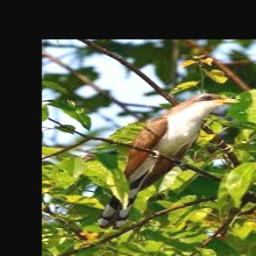Cuckoo: (97, 93, 239, 230)
